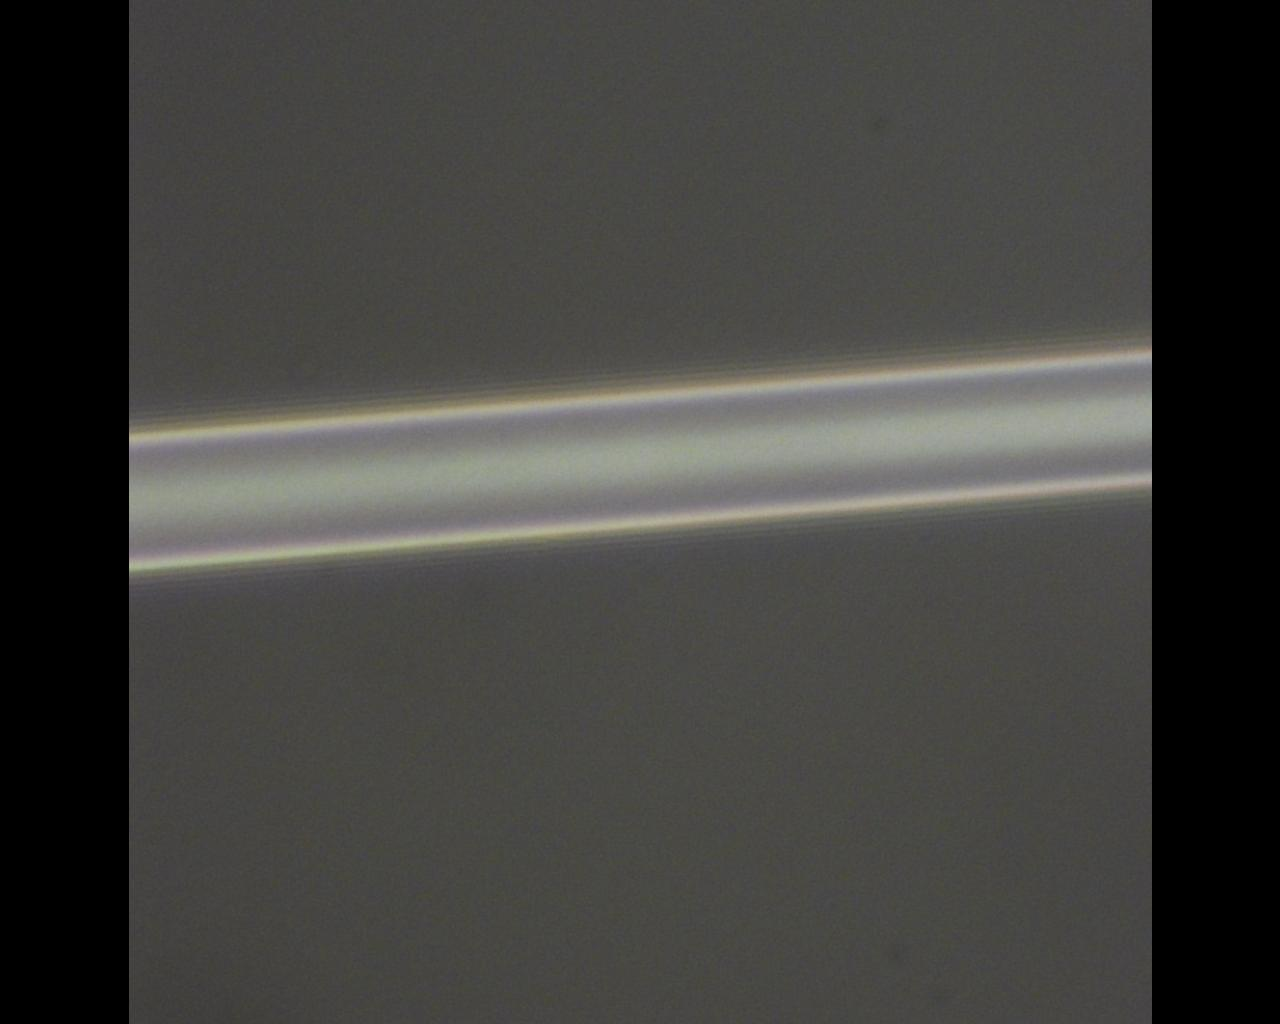fiber: (935, 0, 1161, 1024)
